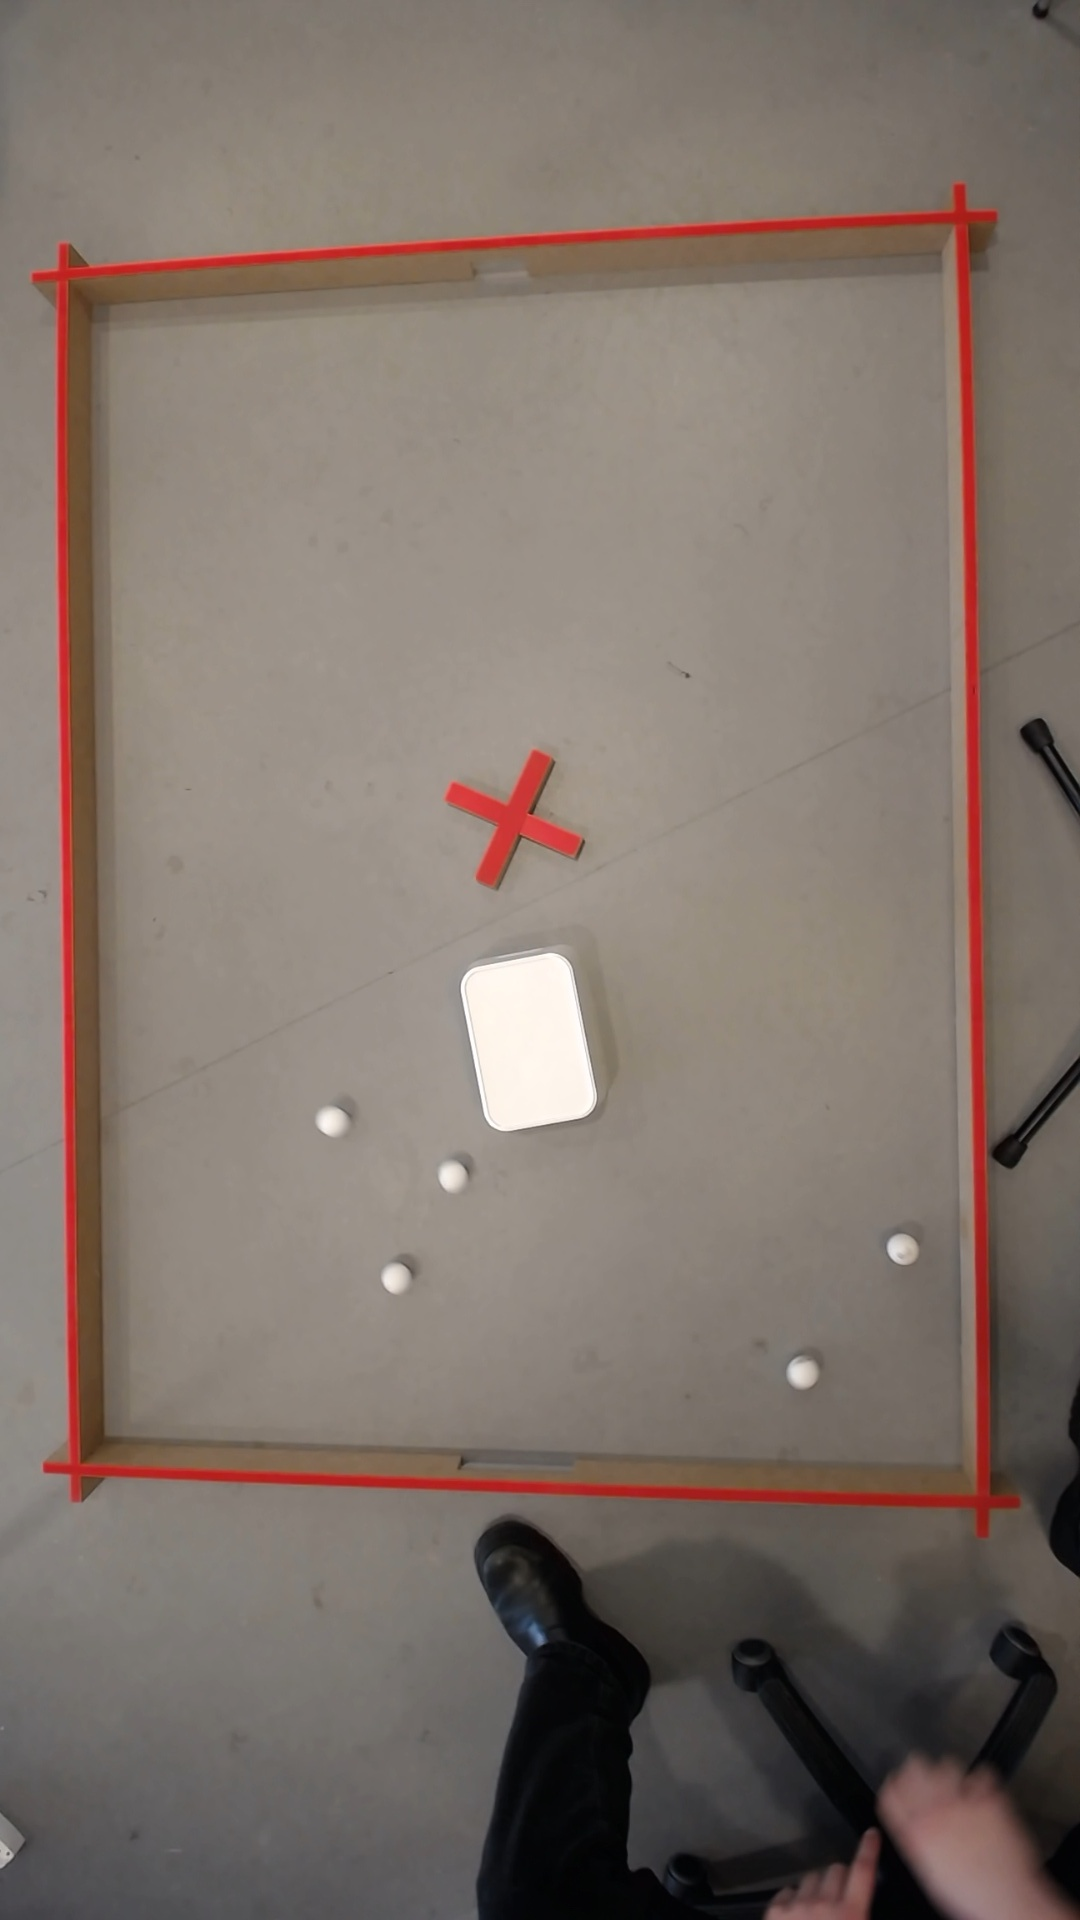balls: (454, 947, 600, 1135), (313, 1102, 345, 1138), (376, 1261, 407, 1294), (434, 1159, 465, 1192), (789, 1364, 808, 1383)
car: (882, 1234, 909, 1262)
